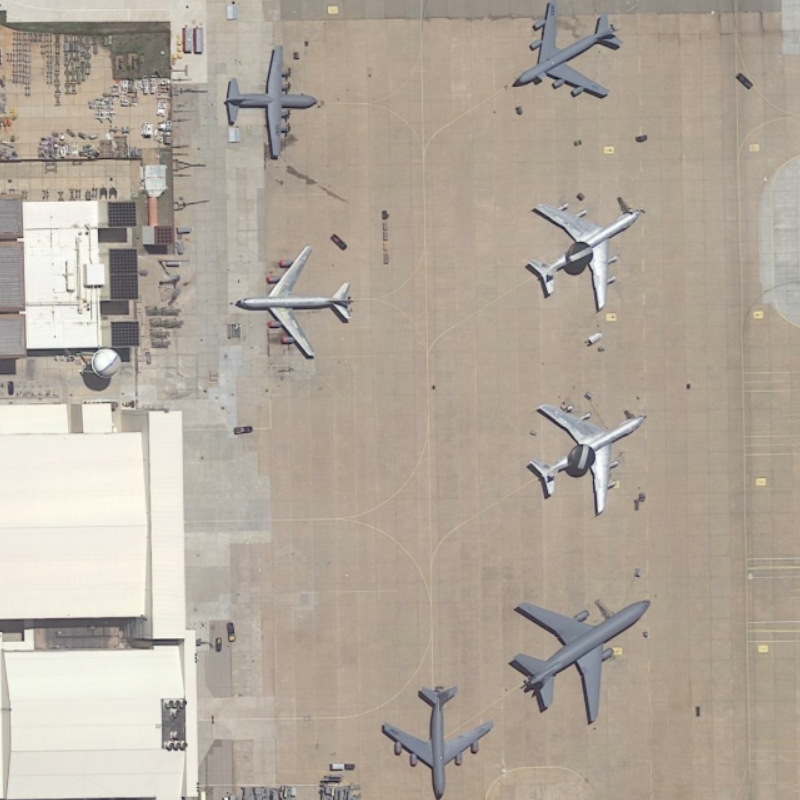A14: (230, 241, 362, 370), (371, 676, 506, 800), (502, 1, 628, 111)
A18: (503, 587, 658, 733)
A2: (217, 39, 320, 166)
A7: (511, 189, 646, 316), (522, 394, 651, 517)
